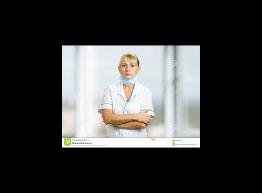mask_weared_incorrect: (120, 63, 138, 82)
